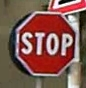stop: (12, 10, 77, 77)
